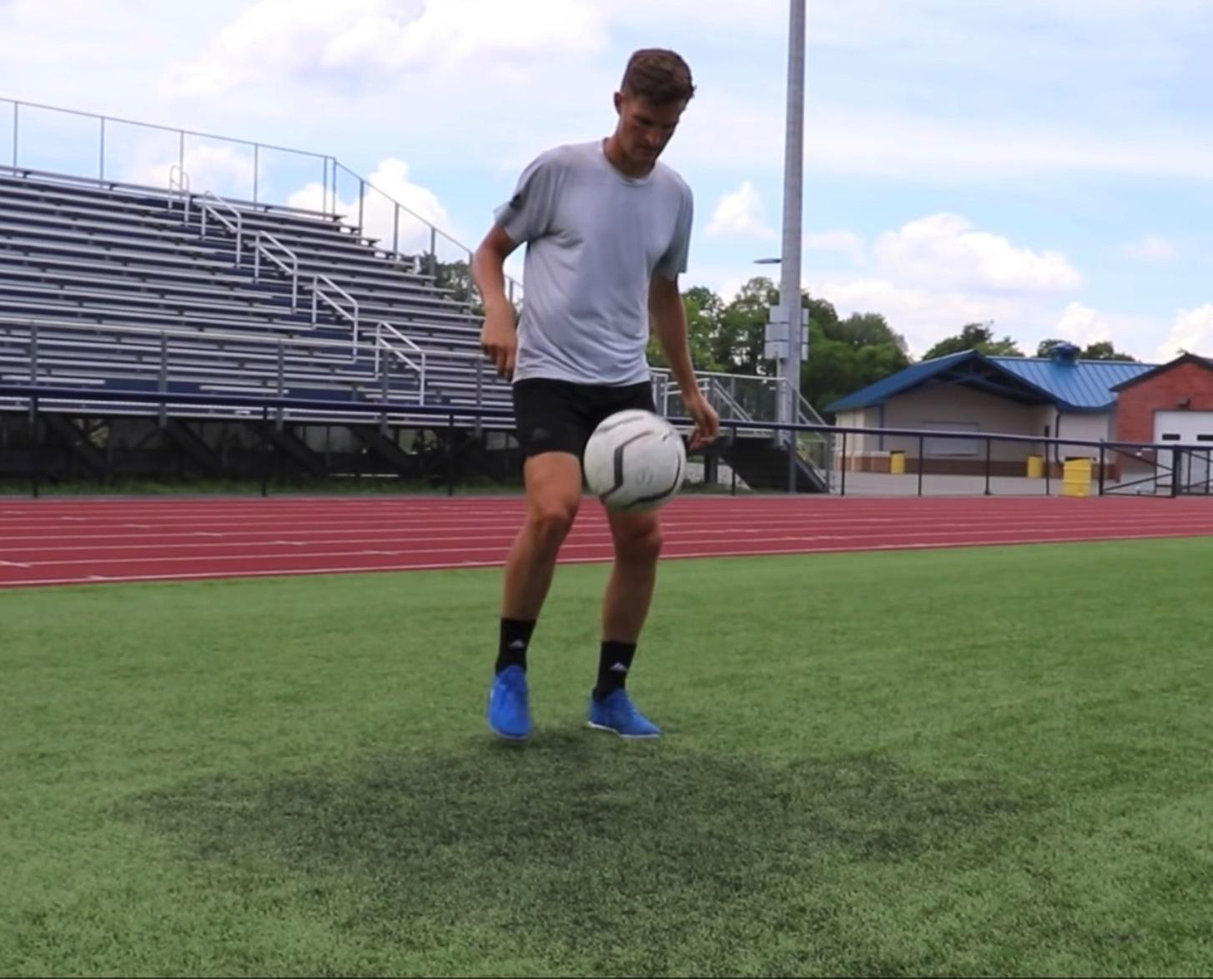ball: (584, 407, 687, 509)
foot: (584, 683, 666, 739), (485, 663, 536, 739)
person: (471, 50, 715, 740)
